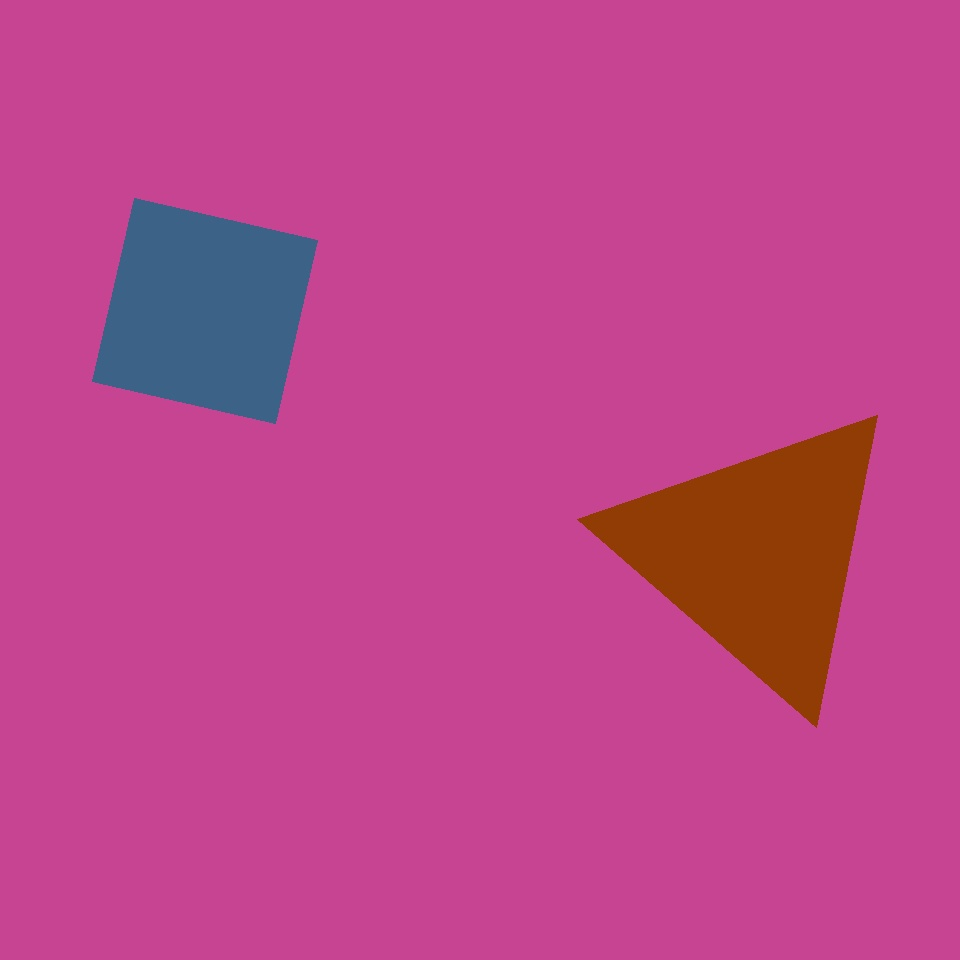circle: (607, 398, 907, 710), (287, 230, 581, 534), (51, 323, 245, 526)
square: (554, 30, 825, 300), (92, 198, 317, 424), (652, 279, 861, 489), (650, 744, 832, 926), (91, 195, 231, 335)
